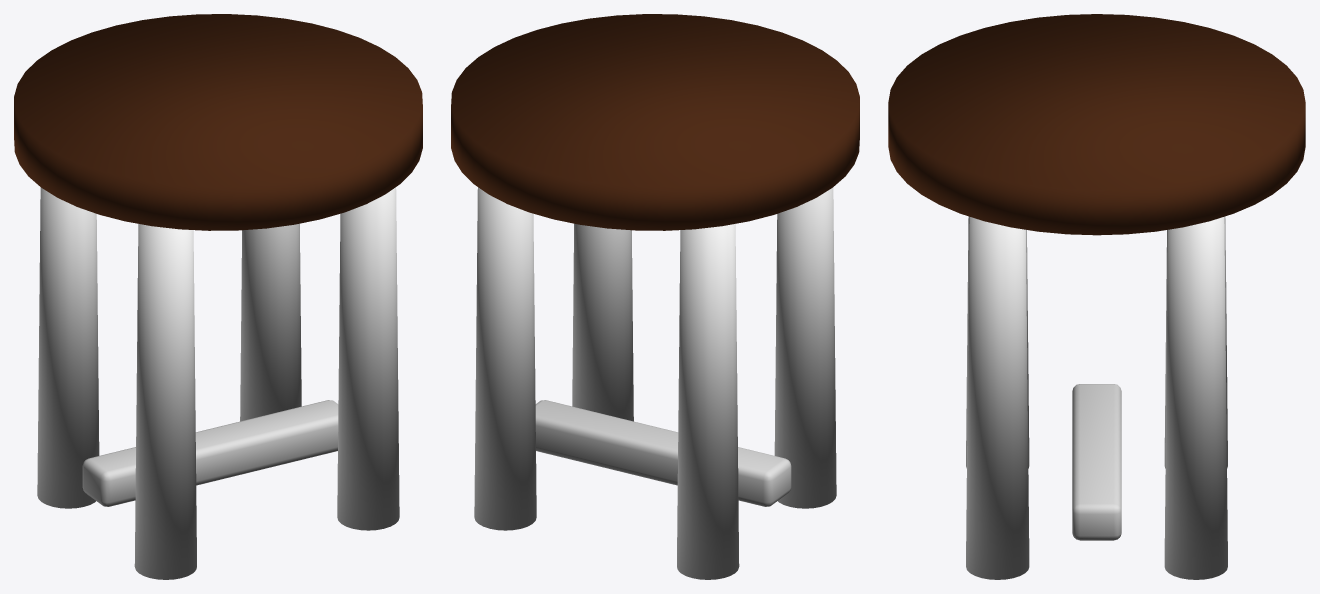
File: simple-stool.obj
3 renders of one model, left to right at view 1: azimuth 30°, elevation 25°; view 2: azimuth 150°, elevation 25°; view 3: azimuth 270°, elevation 25°, orthographic.
Visible parts, largest first — view 1: simple-stool; view 2: simple-stool; view 3: simple-stool.
Part boxes in pixels (x1,y1,x2,y2): simple-stool: (14,14,422,579); simple-stool: (451,14,859,579); simple-stool: (888,14,1305,579).
Size of the model in its own units: 0.42 by 0.46 by 0.42.
